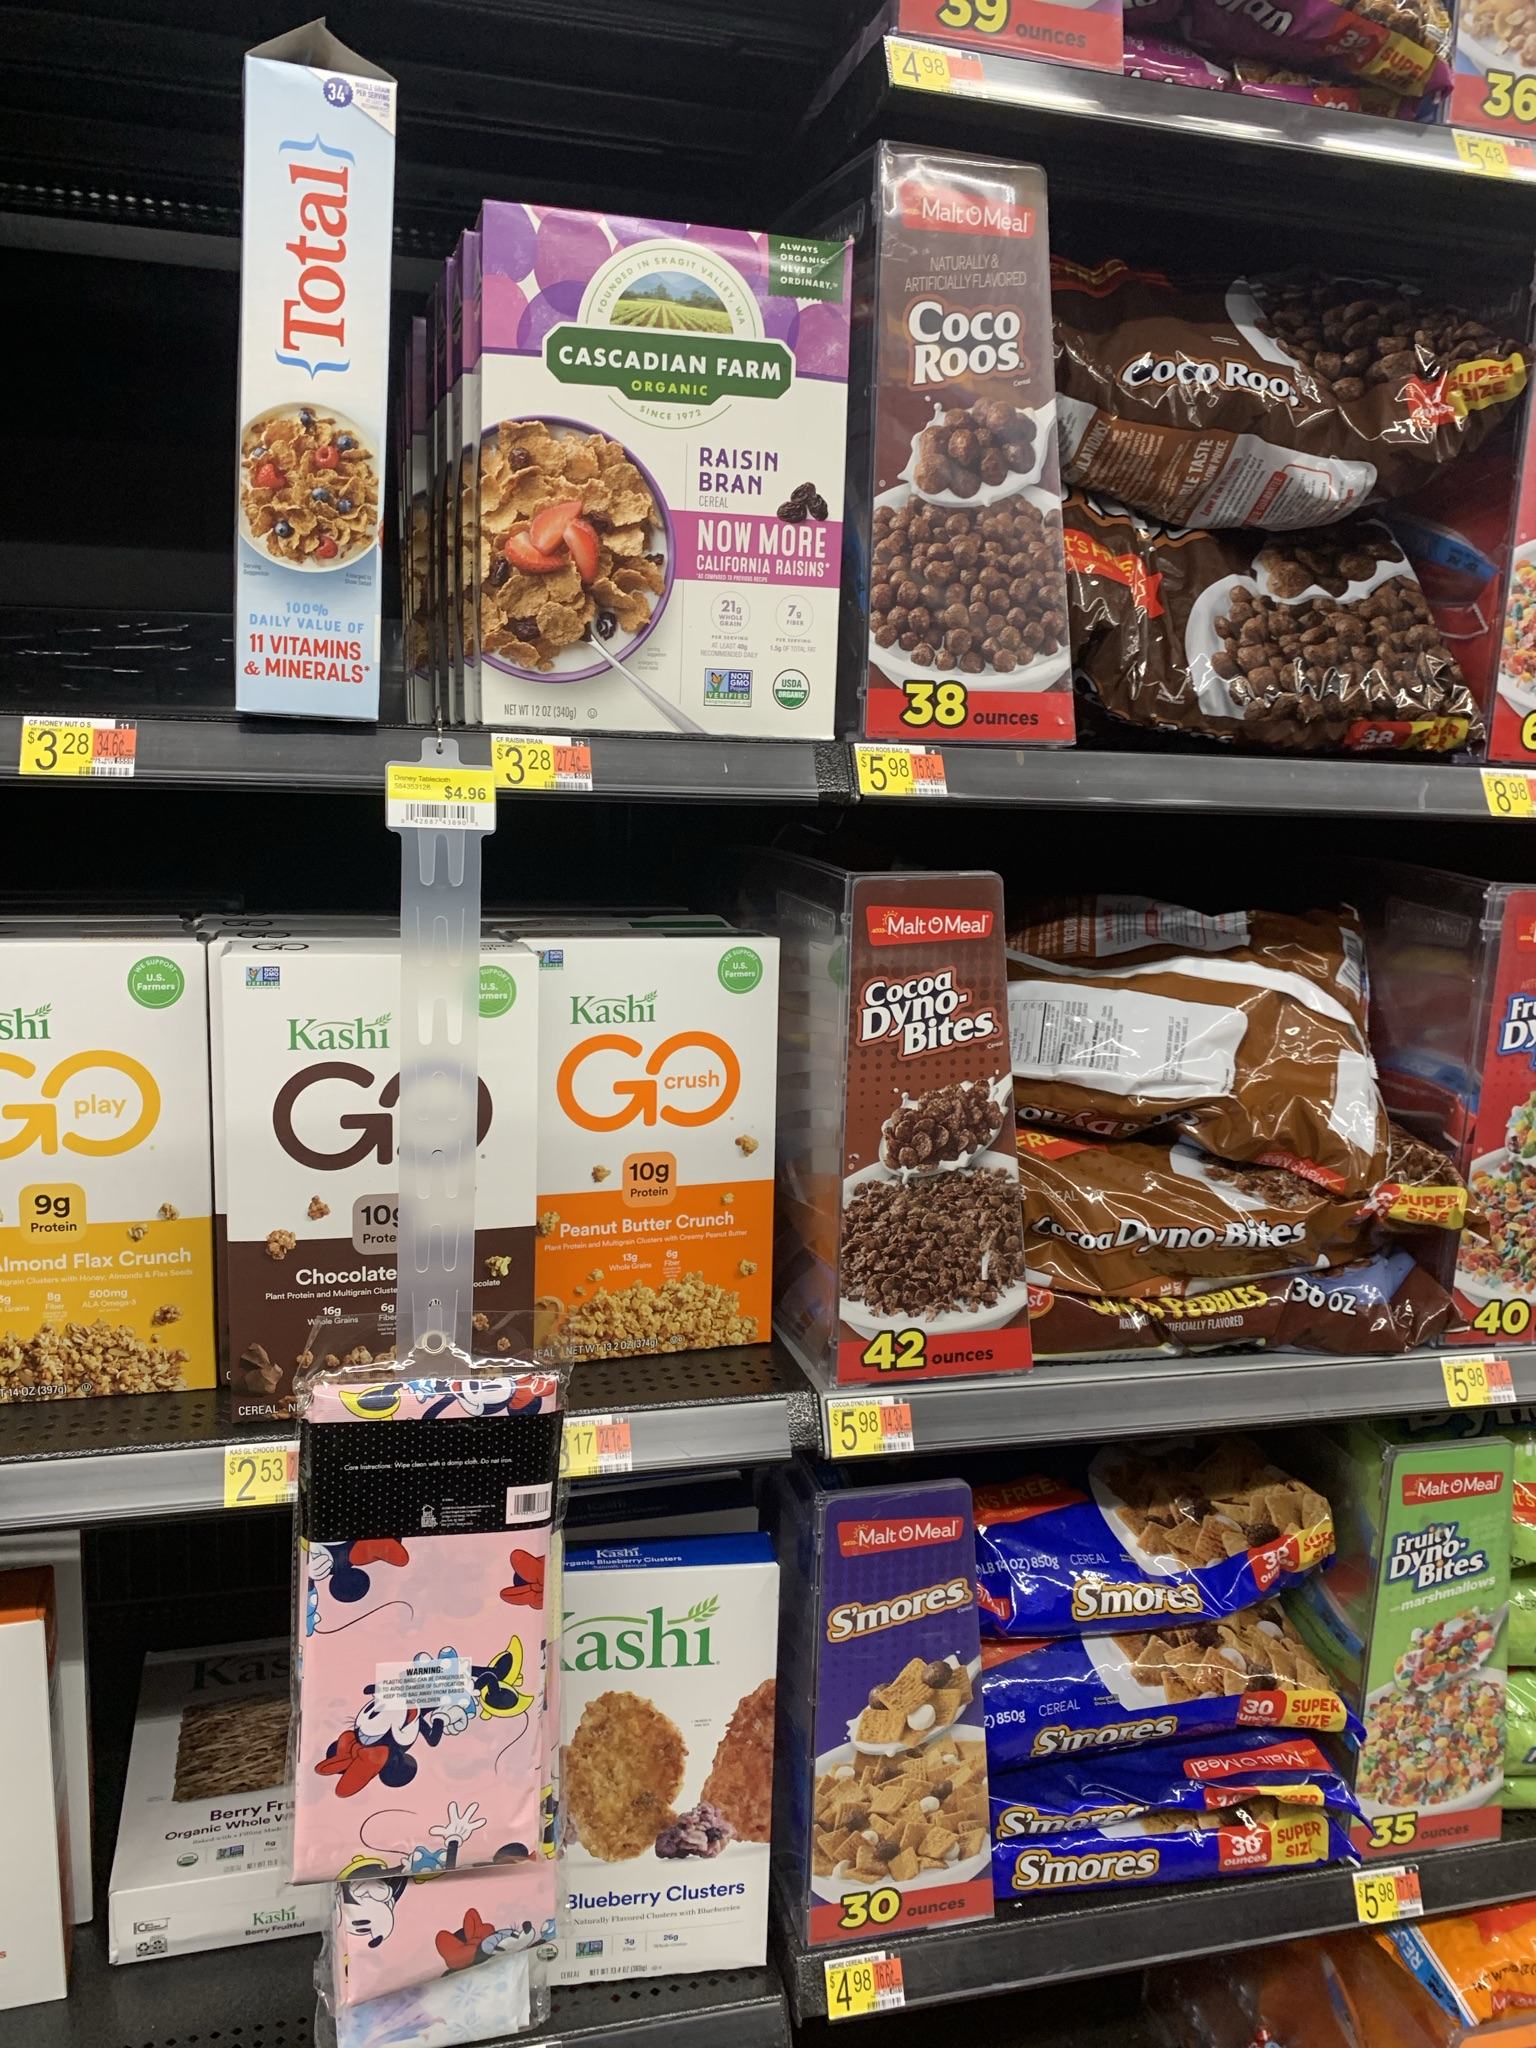cereal: (476, 206, 829, 729), (866, 147, 1081, 748), (244, 958, 537, 1367), (542, 926, 795, 1379), (497, 1576, 771, 1963), (852, 877, 1023, 1363), (812, 1516, 983, 1938)
